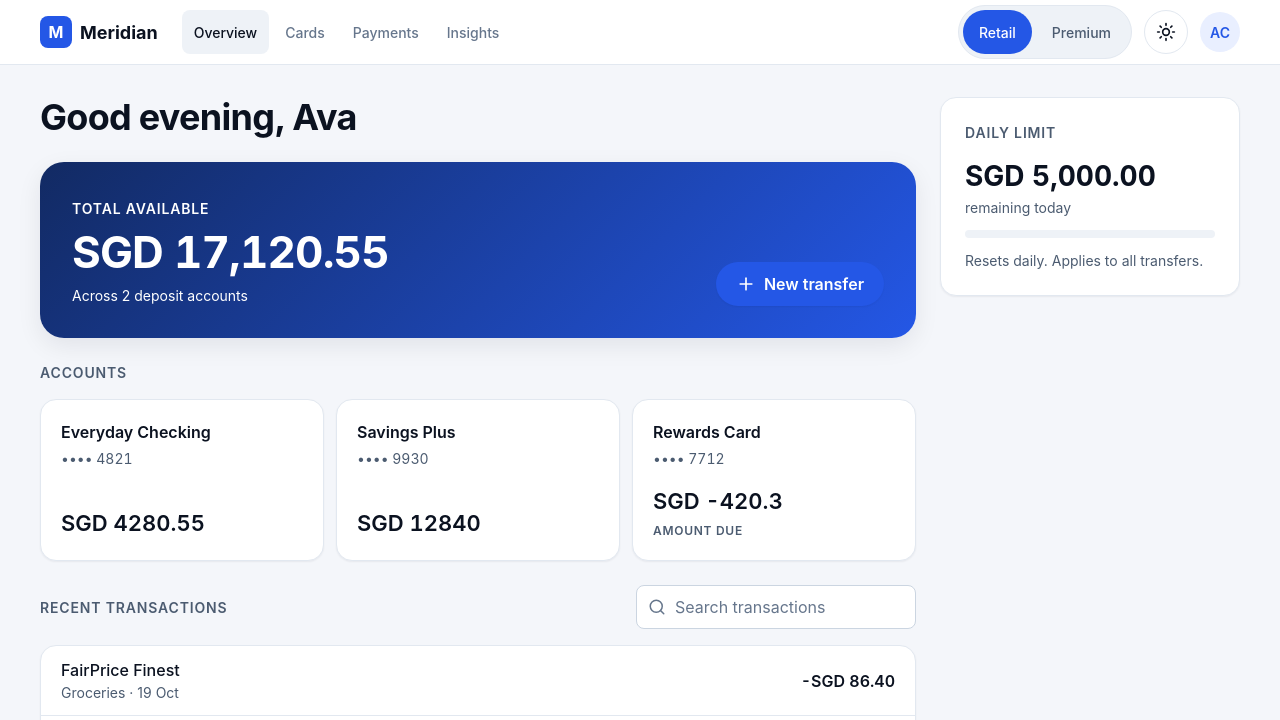
Test case: transfer › shows API field errors under the field when the server rejects a transfer
Click the button "New transfer" at (800, 284), box [716,262,884,306]
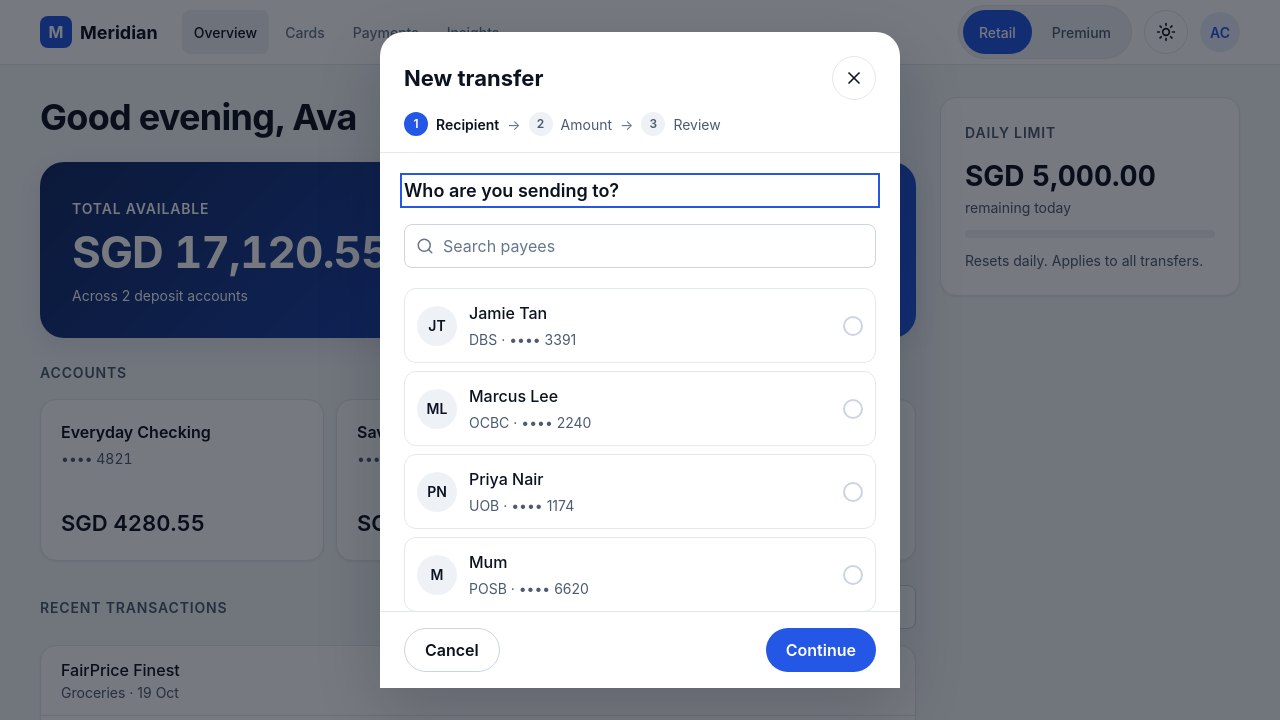
Click the radio button labelled "JT Jamie Tan DBS · •••• 3391" at (437, 326), box [404,288,876,363]
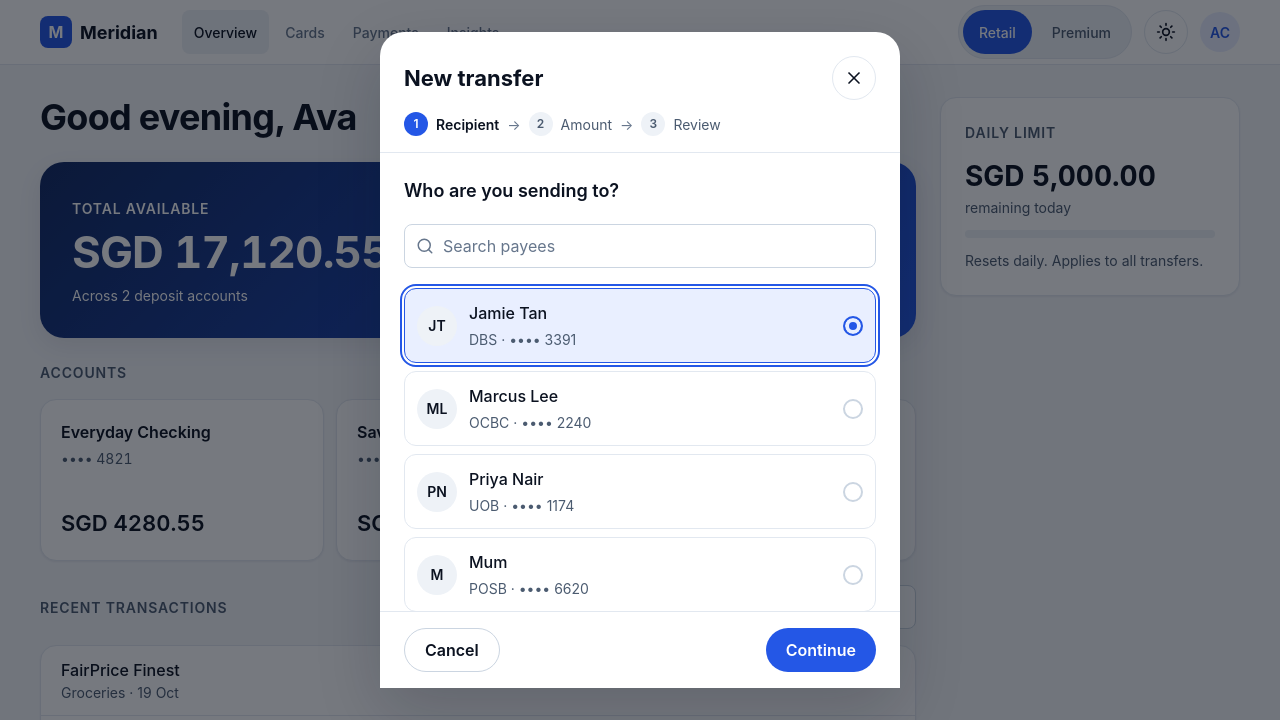
Click the button "Continue" at (821, 650), box [766,628,876,672]
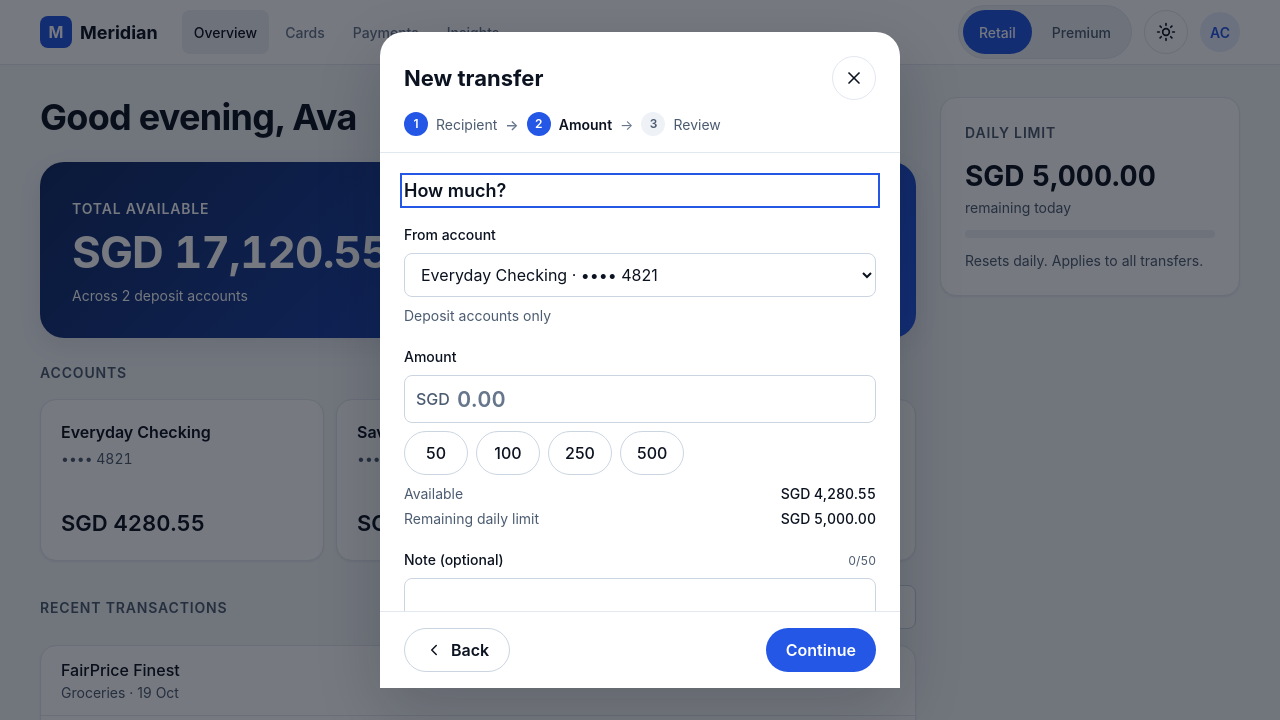
Type "120" into the field labelled "Amount" at (640, 399), box [404,375,876,423]
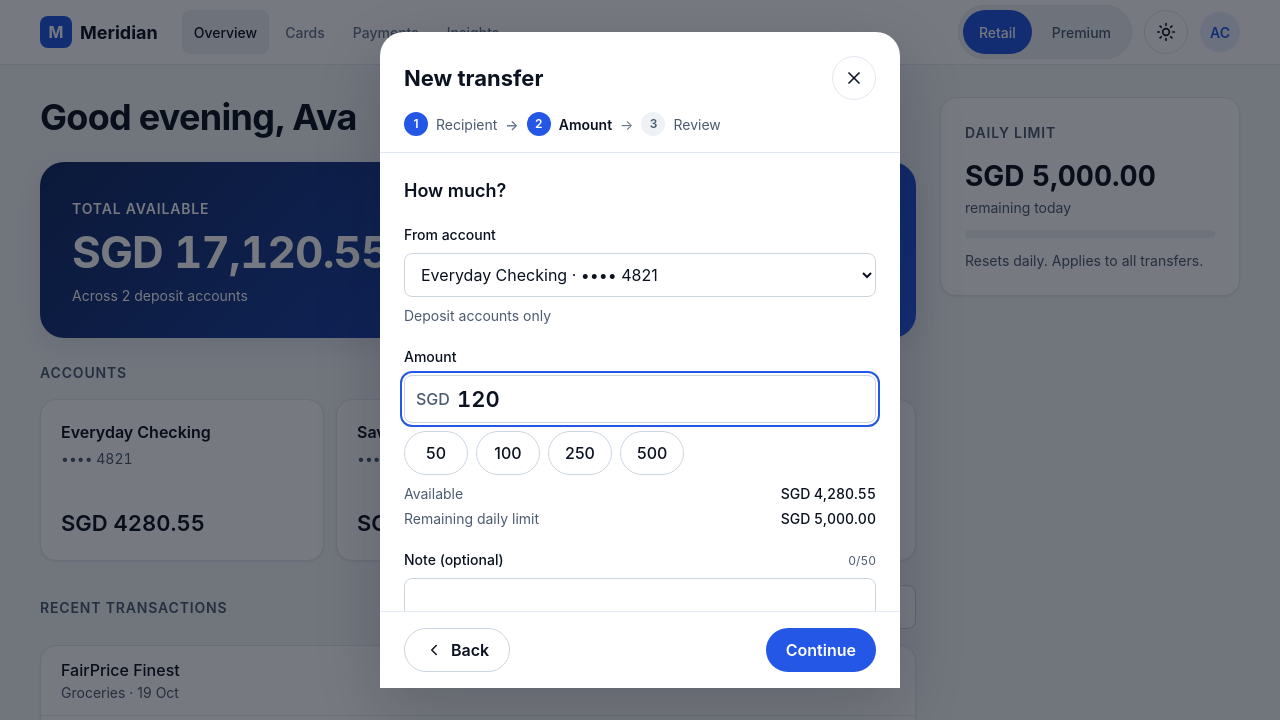
Click the button "Continue" at (821, 650), box [766,628,876,672]
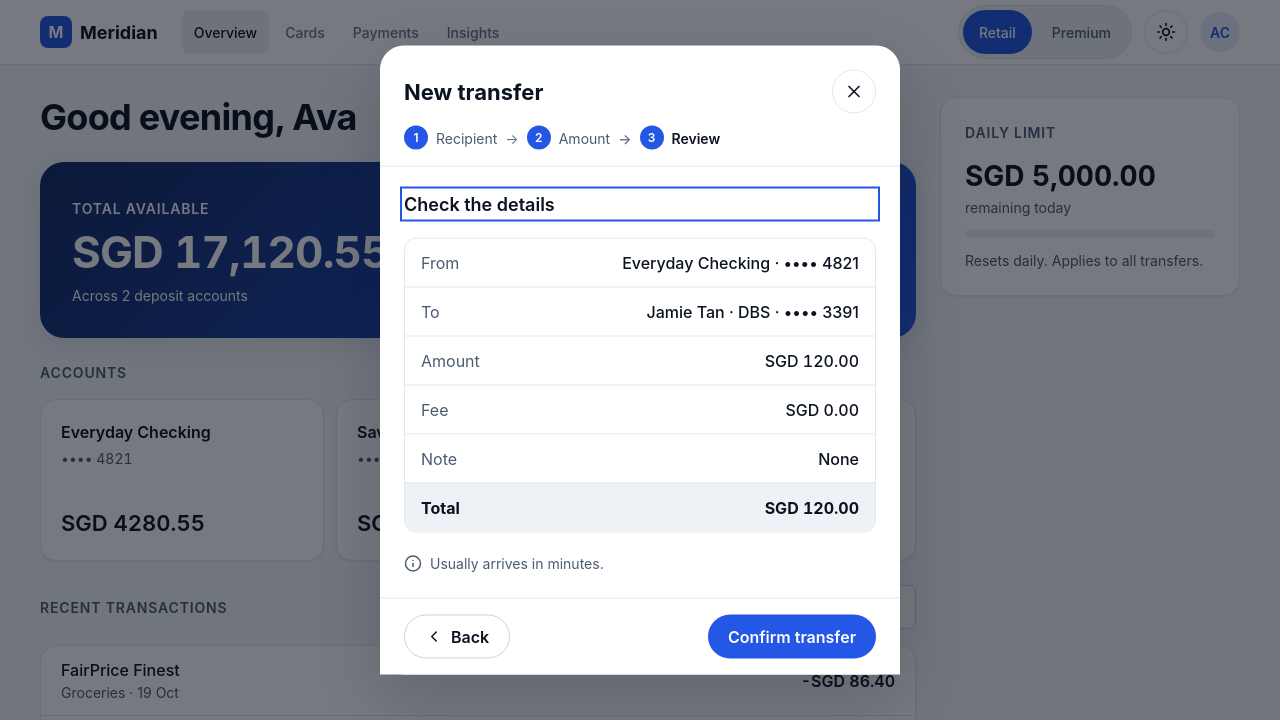
Click the button "Confirm transfer" at (792, 636), box [708,614,876,658]
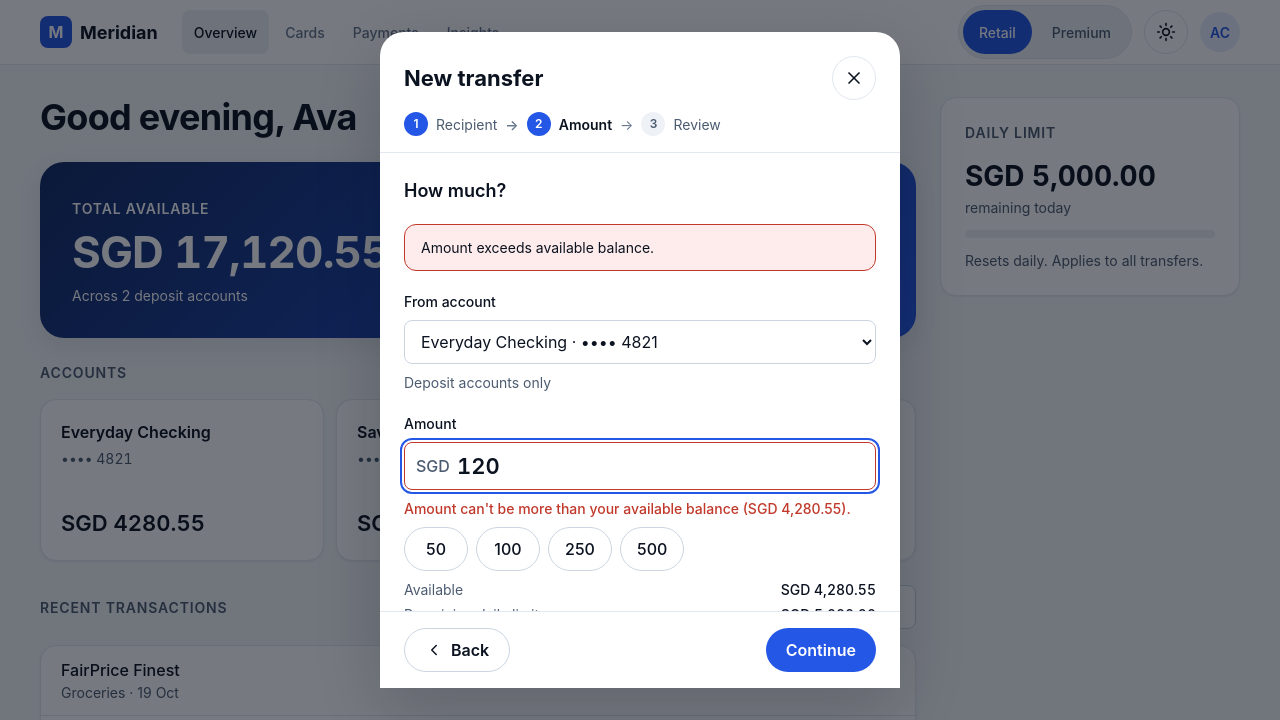
Expected: the heading "How much?" is shown, [404,180,506,201]
Expected: the message reads "Amount exceeds available balance.", [421,239,654,256]
